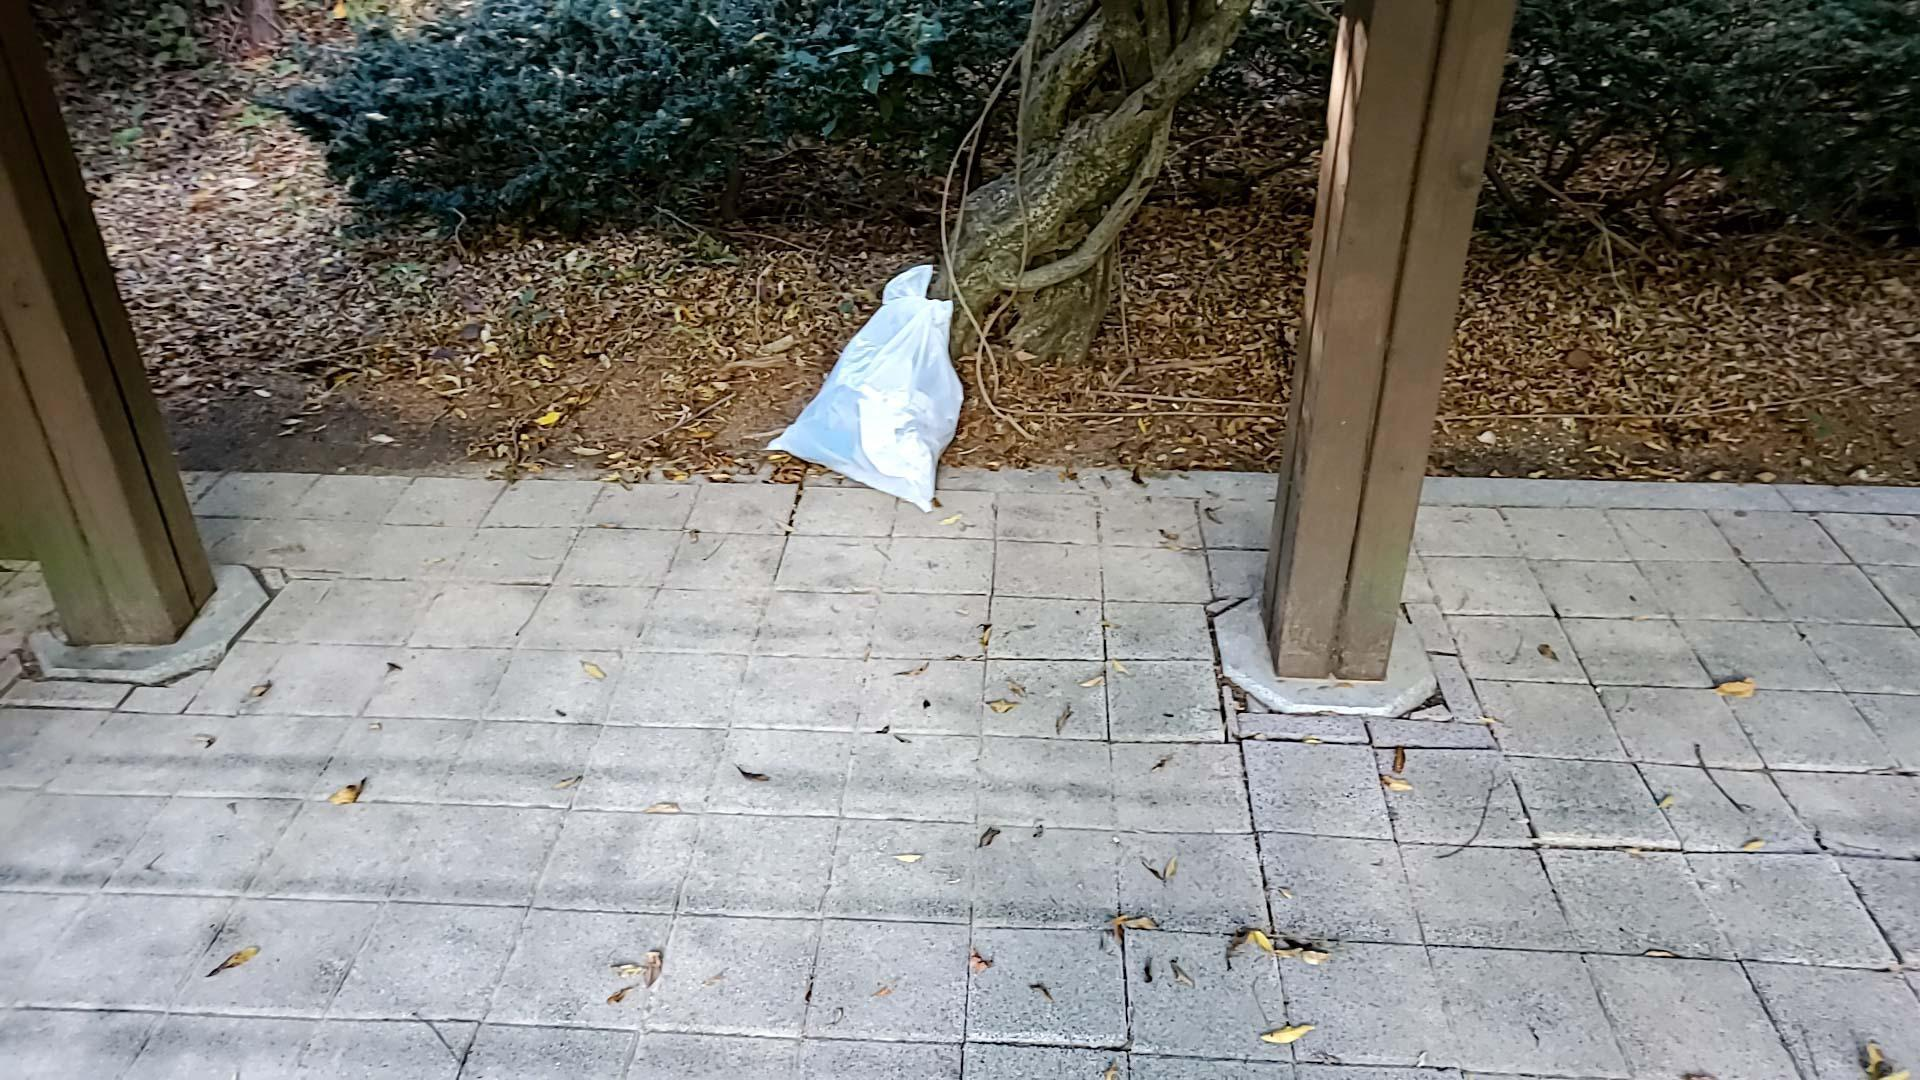white_bag: (754, 243, 978, 526)
